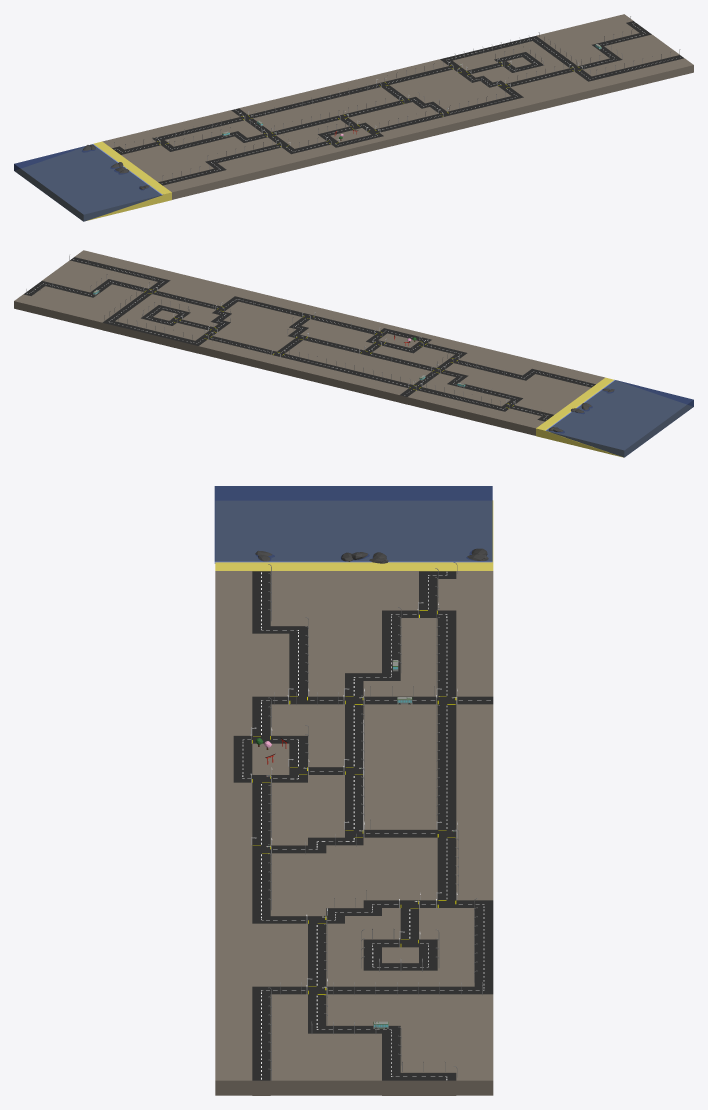
Rendered from streetsFinal2Trees.fbx.
3 views of the same model, one above another, from view 1: azimuth 30°, elevation 25°; view 2: azimuth 150°, elevation 25°; view 3: azimuth 270°, elevation 25° (orthographic). The views are drawn at different scales.
Visible parts, largest first — view 1: Pavement.007, 90 Deg turn.001, Sea, Sand; view 2: Pavement.007, 90 Deg turn.001, Sea, Sand; view 3: Pavement.007, 90 Deg turn.001, Sea, Sand.
Boxes of the visible parts, x1,y1,x2,y2 form: Pavement.007: [102, 14, 693, 199]; 90 Deg turn.001: [112, 21, 683, 185]; Sea: [14, 144, 163, 221]; Sand: [86, 141, 171, 220]; Pavement.007: [14, 250, 604, 435]; 90 Deg turn.001: [24, 257, 595, 421]; Sea: [545, 379, 693, 457]; Sand: [536, 377, 623, 457]; Pavement.007: [215, 571, 493, 1095]; 90 Deg turn.001: [233, 571, 493, 1095]; Sea: [214, 486, 492, 563]; Sand: [215, 500, 493, 571].
Bounding box in the file's own units: 30402 × 669 × 6011.
